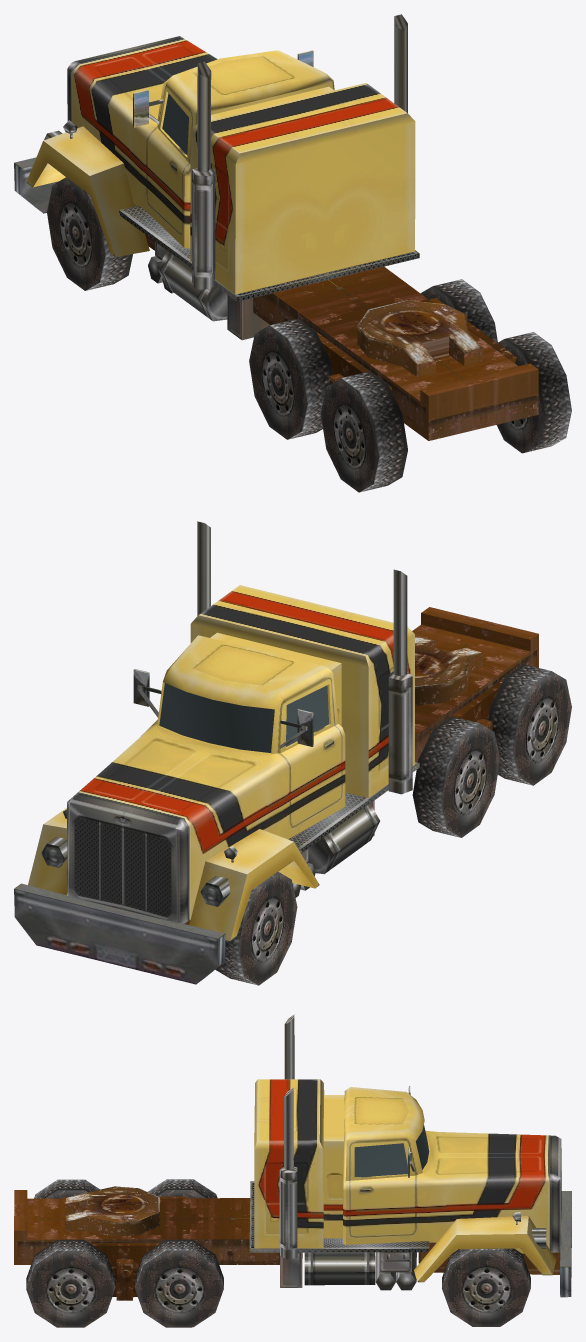
File: p54_20_semi_cabover_yellow.glb
3 views of the same model, one above another, from view 1: azimuth 30°, elevation 25°; view 2: azimuth 150°, elevation 25°; view 3: azimuth 270°, elevation 25° (orthographic). The views are drawn at different scales.
Visible parts, largest first — view 1: Body, Glass; view 2: Body, Glass; view 3: Body, Glass.
Boxes of the visible parts, x1=… form: Body: x1=14, y1=14, x2=571, y2=492; Glass: x1=162, y1=93, x2=188, y2=154; Body: x1=14, y1=521, x2=571, y2=985; Glass: x1=159, y1=683, x2=328, y2=752; Body: x1=14, y1=1014, x2=571, y2=1327; Glass: x1=354, y1=1125, x2=429, y2=1177.
Size of the model in its own units: 2.83 by 3.94 by 8.29.
Materials: 2 (2 with a texture image).
